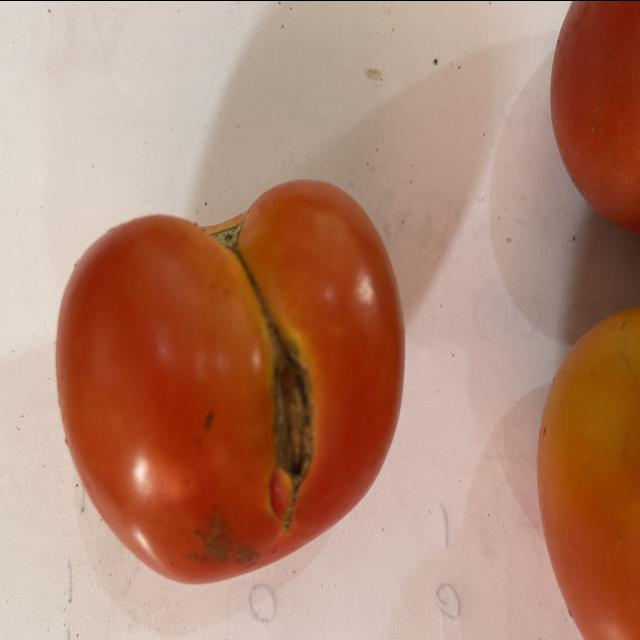tomato_cracking: (219, 218, 317, 536)
